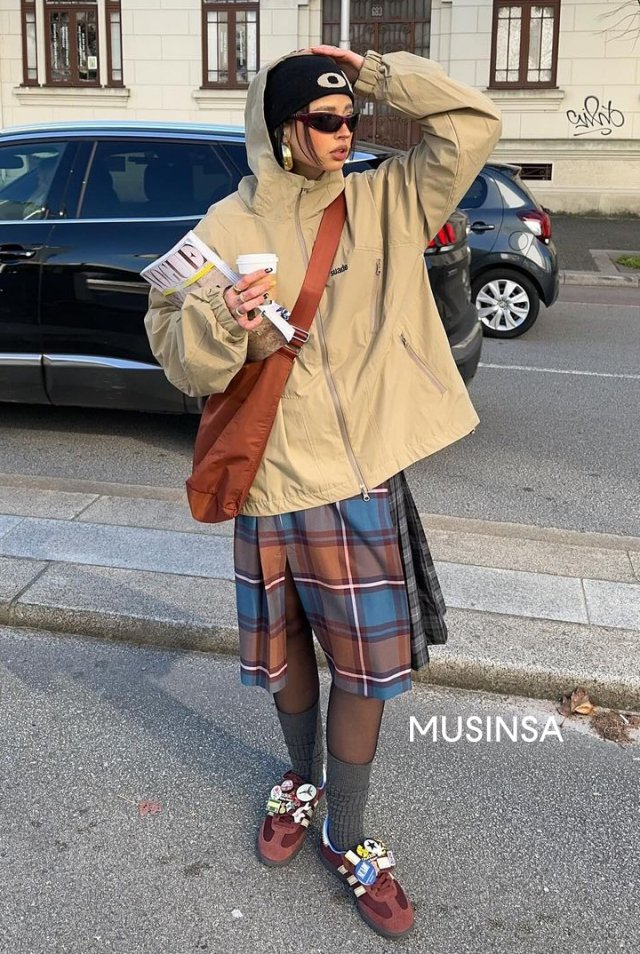Bag: (180, 355, 291, 522)
Beanie: (256, 50, 357, 113)
Glasses: (288, 110, 360, 134)
Jacket: (136, 172, 500, 493)
Shoes: (254, 760, 427, 946)
Skirt: (230, 487, 457, 706)
